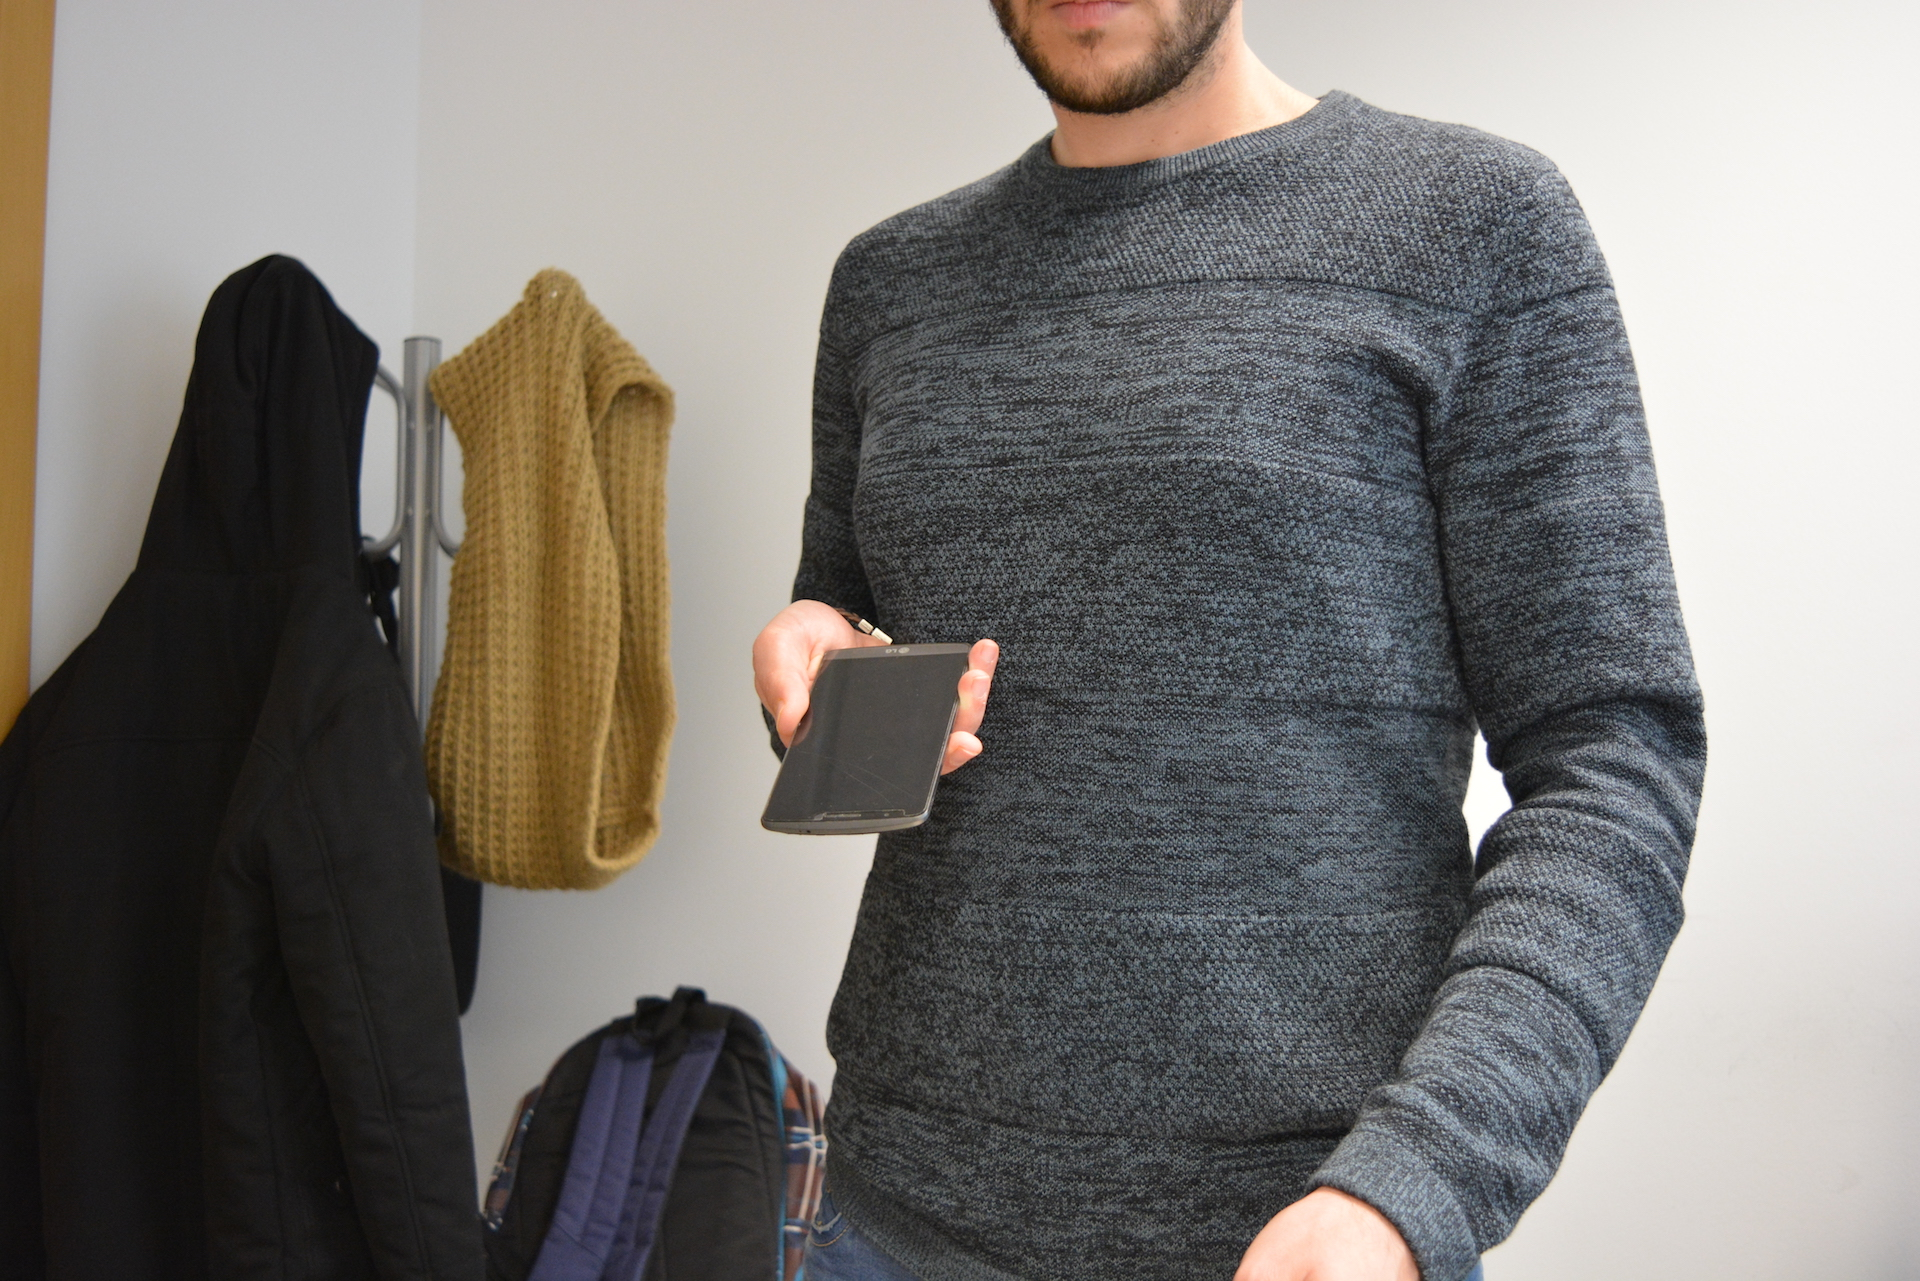smartphone: (759, 640, 974, 836)
